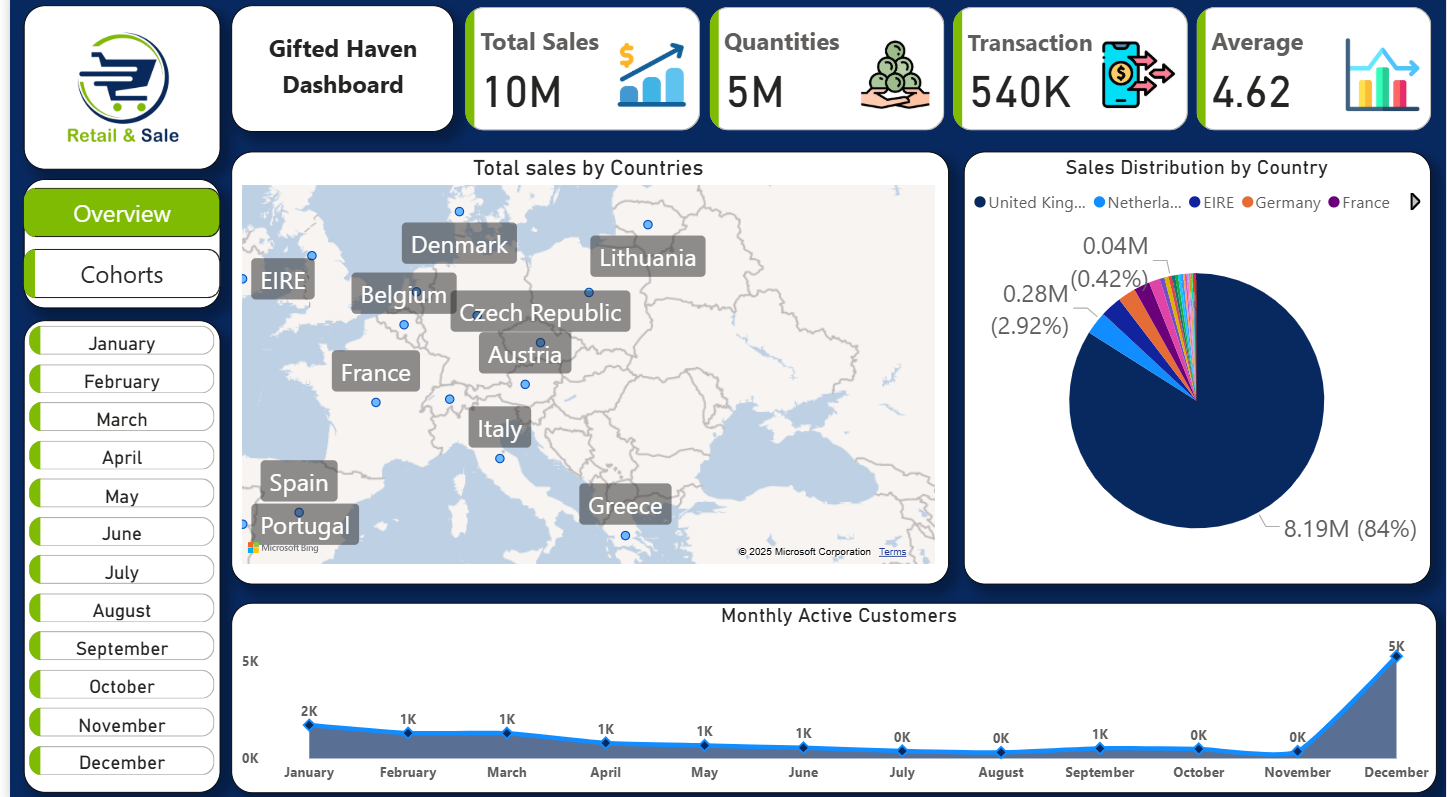

Layout of this report page (visuals, bound fields, positions):
{"tool":"powerbi","page":{"name":"Overview","canvas":[1280,720],"ordinal":0},"visuals":[{"type":"shape","box":[12.3,9.8,175.5,146],"z":0},{"type":"image","box":[0,0,201.2,184.1],"z":1000},{"type":"shape","box":[197.5,9.8,198.8,112.9],"z":2000},{"type":"textbox","box":[208.6,25.8,176.7,79.8],"z":3000},{"type":"shape","box":[12.3,164.4,175.5,115.3],"z":4000},{"type":"cardVisual","fields":{"Data":["Copy of Online Retail_0.Total_sales","Copy of Online Retail_0.Total_quantity","Copy of Online Retail_0.Total_transaction","Copy of Online Retail_0.Average"]},"box":[401.2,6.1,870,120],"z":5000},{"type":"shape","box":[12.3,290.8,175.5,420.9],"z":6000},{"type":"advancedSlicerVisual","fields":{"Values":["Copy of Online Retail_0.InvoiceDate.Variation.Date Hierarchy.Month"]},"box":[12.3,290.8,175.5,420.9],"z":7000},{"type":"shape","box":[197.5,139.9,639.3,385.3],"z":8000},{"type":"map","title":"Total sales by Countries","fields":{"Category":["Copy of Online Retail_0.Country"]},"box":[201.2,143.6,627,369.3],"z":9000},{"type":"shape","box":[197.5,542.3,1073.6,169.3],"z":10000},{"type":"areaChart","title":"Monthly Active Customers","fields":{"Category":["Cohort Analysis.cohort_month.Variation.Date Hierarchy.Month"],"Y":["Sum(Cohort Analysis.active_customers)"]},"box":[201.2,542.3,1073.6,169.3],"z":11000},{"type":"shape","box":[849.1,139.9,416,385.3],"z":11500},{"type":"pieChart","title":"Sales Distribution by Country","fields":{"Category":["Copy of Online Retail_0.Country"],"Y":["Copy of Online Retail_0.Total_sales"]},"box":[852.8,143.6,408.6,385.3],"z":12000},{"type":"pageNavigator","box":[12.3,173,175.5,98.2],"z":14000}]}

Visuals, with their boxes in screenshot pixels (x1, y1, x2, y2), scaled from the page's 1280x720 canvas onto the 1447x797 screenshot:
shape: detection(14, 11, 212, 172)
image: detection(0, 0, 227, 204)
shape: detection(223, 11, 448, 136)
textbox: detection(236, 29, 436, 117)
shape: detection(14, 182, 212, 310)
cardVisual - Copy of Online Retail_0.Total_sales x Copy of Online Retail_0.Total_quantity: detection(454, 7, 1437, 140)
shape: detection(14, 322, 212, 788)
advancedSlicerVisual - Copy of Online Retail_0.InvoiceDate.Variation.Date Hierarchy.Month: detection(14, 322, 212, 788)
shape: detection(223, 155, 946, 581)
"Total sales by Countries" map: detection(227, 159, 936, 568)
shape: detection(223, 600, 1437, 788)
"Monthly Active Customers" areaChart: detection(227, 600, 1441, 788)
shape: detection(960, 155, 1430, 581)
"Sales Distribution by Country" pieChart: detection(964, 159, 1426, 585)
pageNavigator: detection(14, 192, 212, 300)
